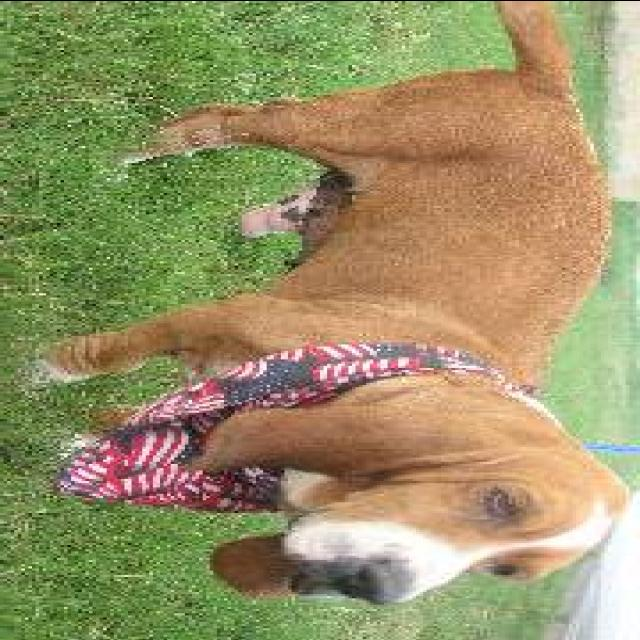dog: (11, 0, 640, 618)
